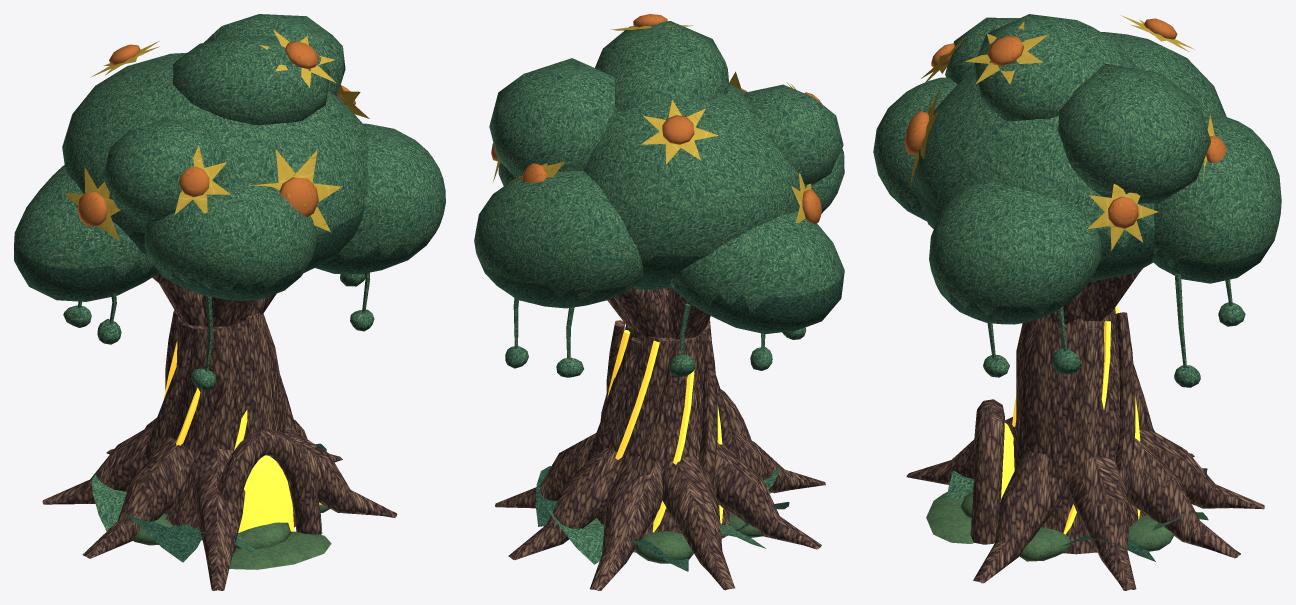
The model's file is tree_of_life.glb.
3 views of the same model, side by side, from view 1: azimuth 30°, elevation 25°; view 2: azimuth 150°, elevation 25°; view 3: azimuth 270°, elevation 25° (orthographic). The views are drawn at different scales.
Parts seen in each view (by area): view 1: Tree; view 2: Tree; view 3: Tree.
Boxes of the visible parts, box(x1,y1,x2,y2) form: Tree: box(14, 14, 445, 590); Tree: box(474, 14, 844, 590); Tree: box(873, 14, 1281, 590).
Size of the model in its own units: 13.42 by 16.57 by 12.2.
6 materials, 5 textured.
